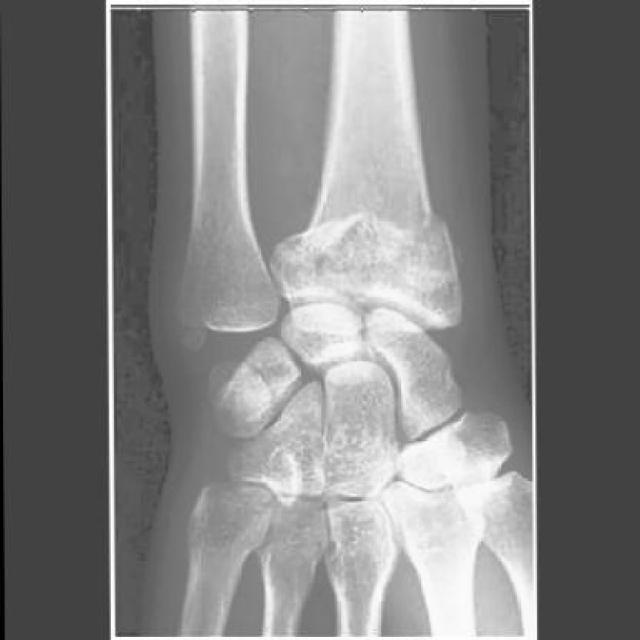Fracture: (273, 210, 455, 270)
